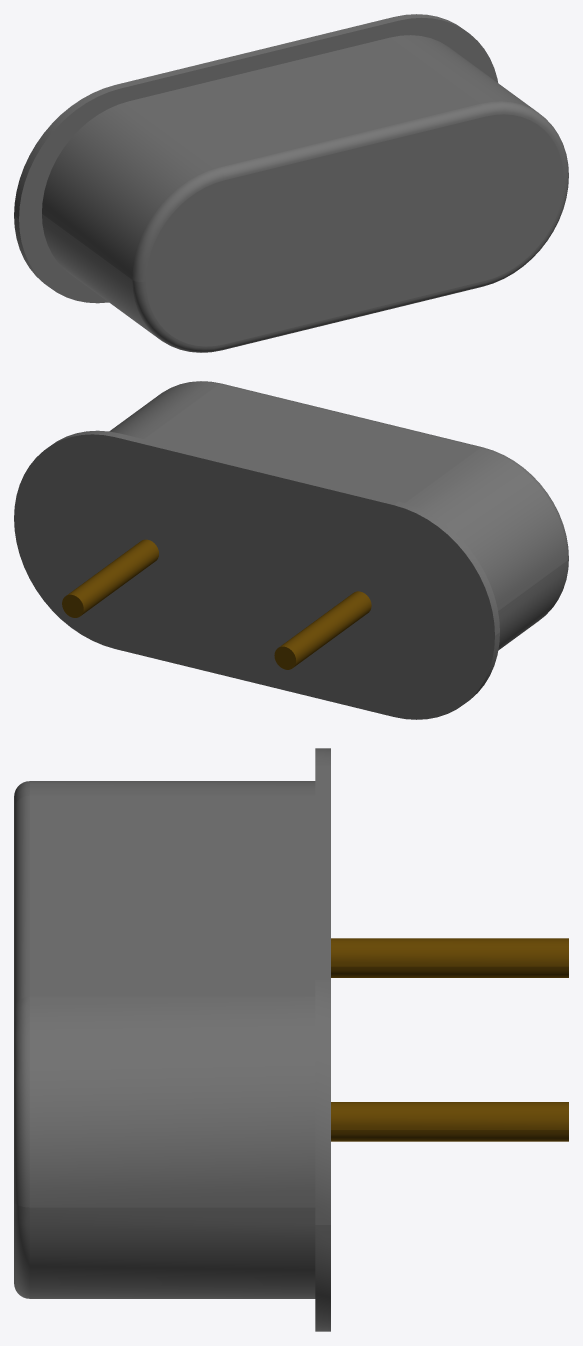
File: crystal.glb
The picture shows the model from 3 angles, top to bottom: view 1: azimuth 30°, elevation 25°; view 2: azimuth 150°, elevation 25°; view 3: azimuth 270°, elevation 25°; orthographic projection. The views are drawn at different scales.
Parts seen in each view (by area): view 1: Crystal_HC49-4H_Vertical; view 2: Crystal_HC49-4H_Vertical; view 3: Crystal_HC49-4H_Vertical.
Part boxes in pixels (x1,y1,x2,y2): Crystal_HC49-4H_Vertical: (14,14,568,352); Crystal_HC49-4H_Vertical: (14,381,568,719); Crystal_HC49-4H_Vertical: (14,748,568,1331).
Size of the model in its own units: 11.05 by 4.65 by 7.
